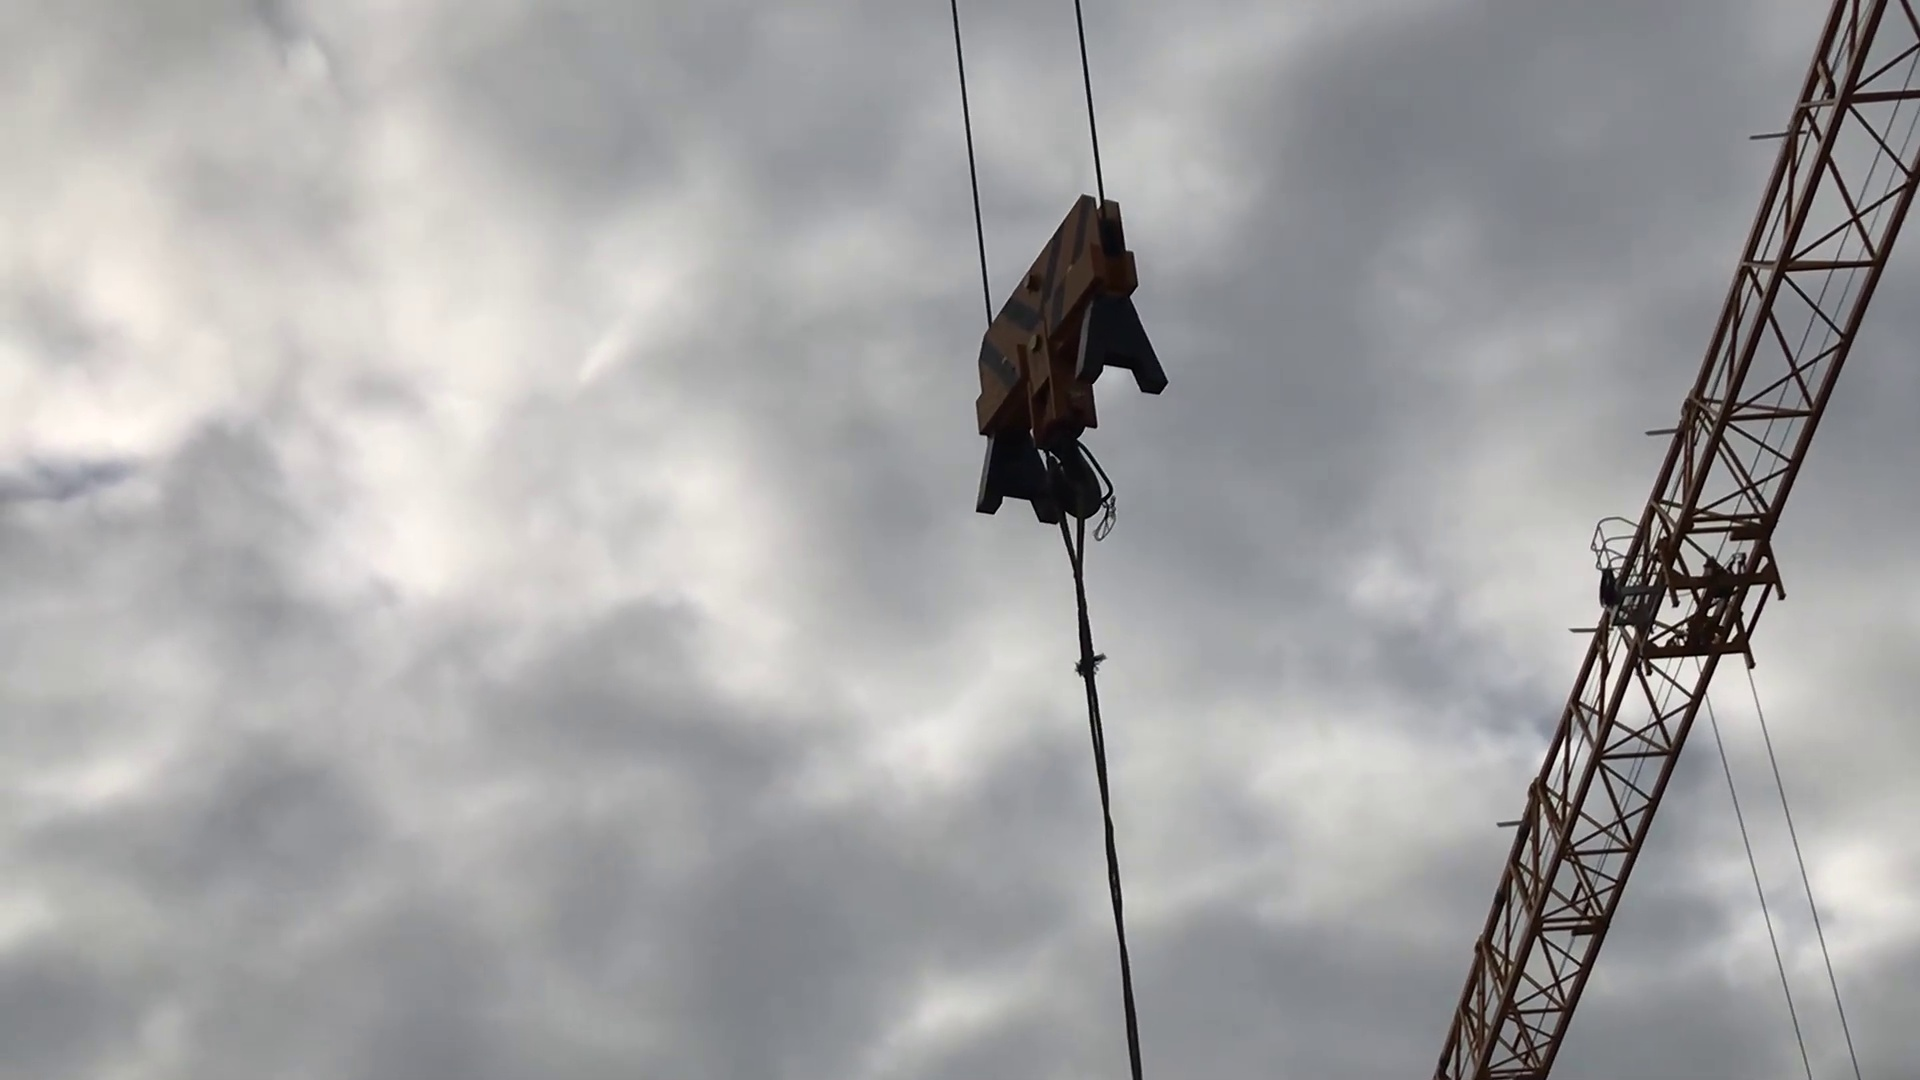hook: (964, 183, 1182, 538)
